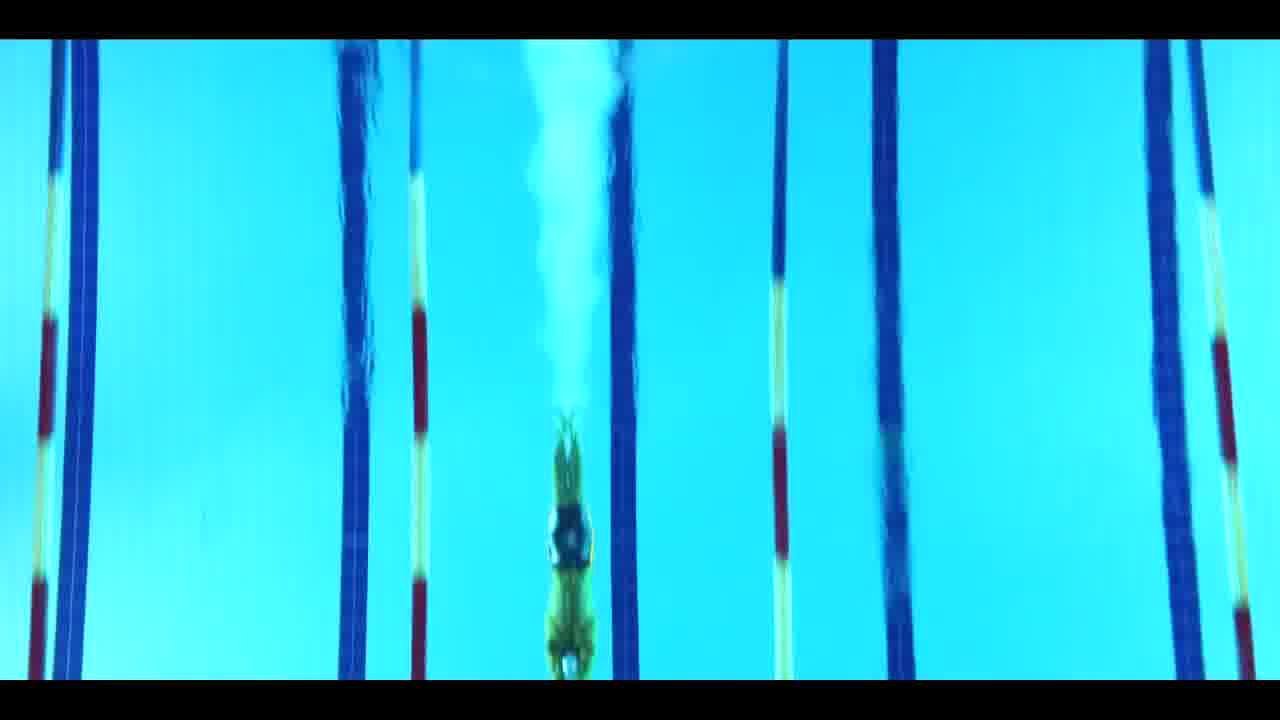human: (521, 435, 623, 681)
